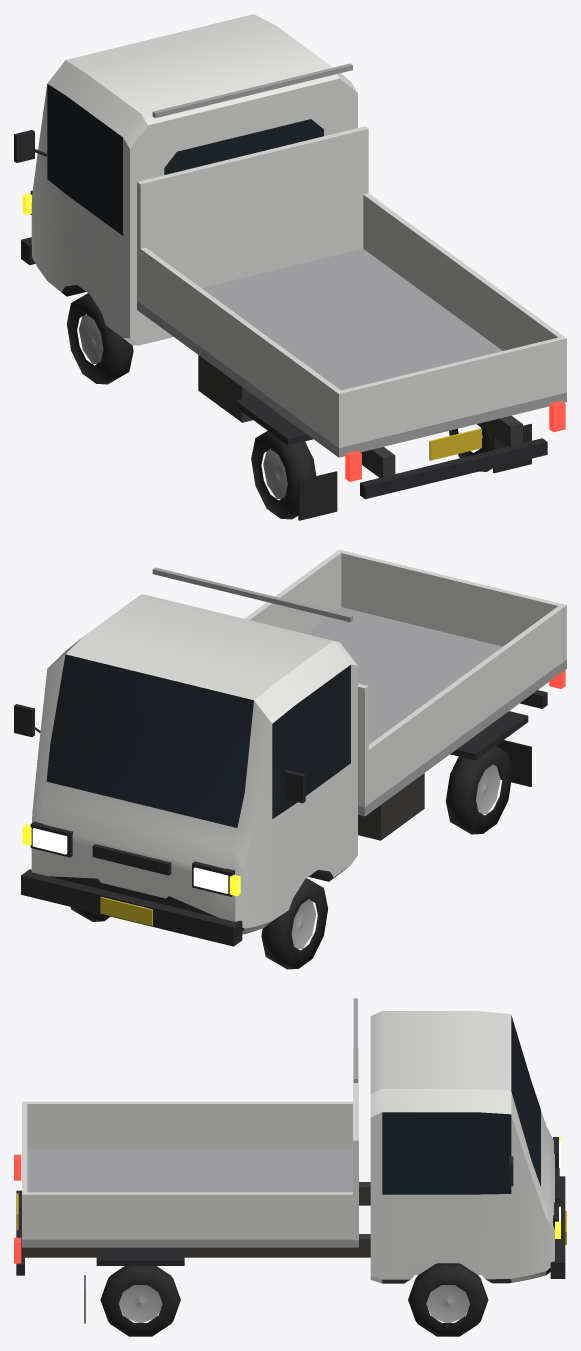
File: goods_carrier_lod1.glb
3 renders of one model, top to bottom at view 1: azimuth 30°, elevation 25°; view 2: azimuth 150°, elevation 25°; view 3: azimuth 270°, elevation 25°, orthographic. The views are drawn at different scales.
Visible parts, largest first — view 1: body, wheel_rl, wheel_fl; view 2: body, wheel_rl, wheel_fl; view 3: body, wheel_fr, wheel_rr.
Part boxes in pixels (x1,y1,x2,y2): body: (14,14,566,520); wheel_rl: (251,431,316,519); wheel_fl: (67,293,133,384); body: (14,549,566,946); wheel_rl: (445,746,512,834); wheel_fl: (261,878,328,969); body: (14,998,566,1323); wheel_fr: (408,1263,488,1336); wheel_rr: (100,1266,180,1336).
Bounding box in the file's own units: 1.9 × 1.93 × 3.78.
Materials: 2 (1 with a texture image).
